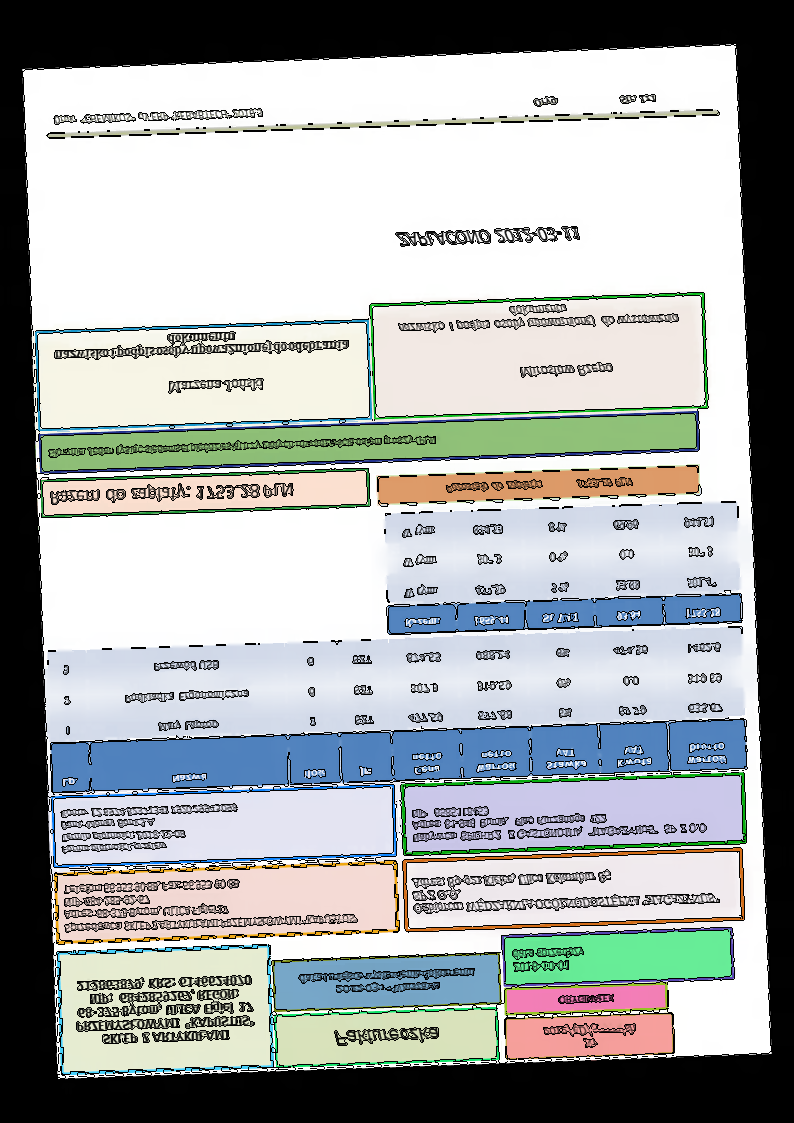Table: (45, 625, 749, 796), (383, 502, 744, 638)
TextBox: (60, 871, 358, 938), (410, 863, 722, 919), (410, 796, 710, 846), (71, 971, 257, 1051), (44, 431, 443, 462), (51, 325, 351, 364), (394, 298, 681, 338), (58, 801, 241, 857), (46, 478, 295, 510), (296, 964, 478, 1000), (393, 222, 585, 253), (51, 105, 267, 129), (441, 473, 636, 497), (540, 1019, 638, 1052), (330, 1022, 441, 1051), (530, 91, 658, 111), (510, 944, 584, 977), (164, 375, 265, 399), (517, 360, 616, 383), (555, 991, 614, 1008)
